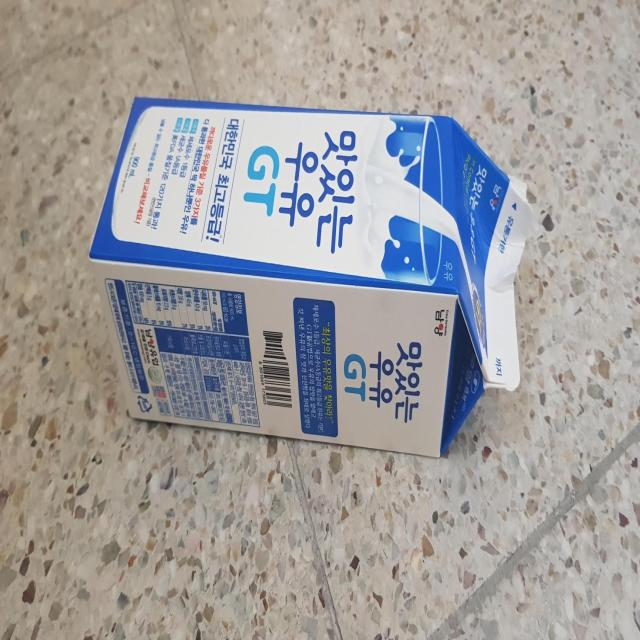paperpack: (89, 96, 535, 456)
